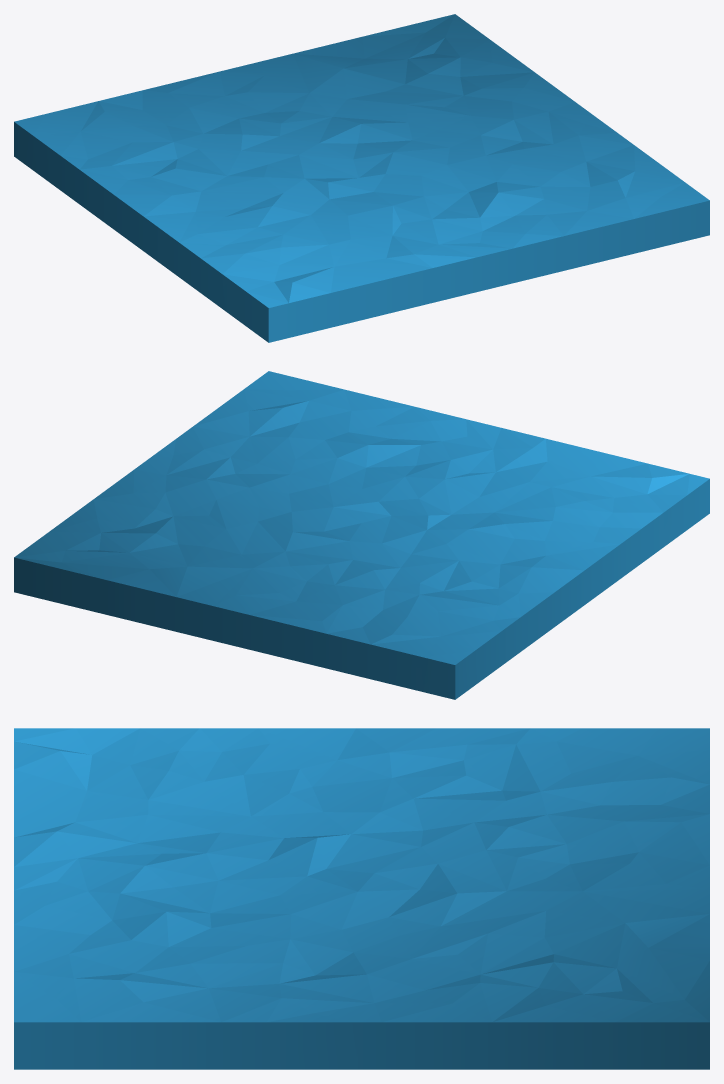
File: water location christmas village.fbx
The picture shows the model from 3 angles, top to bottom: view 1: azimuth 30°, elevation 25°; view 2: azimuth 150°, elevation 25°; view 3: azimuth 270°, elevation 25°; orthographic projection. The views are drawn at different scales.
Visible parts, largest first — view 1: water location christmas village; view 2: water location christmas village; view 3: water location christmas village.
Part boxes in pixels (box(x1,y1,x2,y2)): water location christmas village: box(14, 14, 709, 342); water location christmas village: box(14, 371, 709, 699); water location christmas village: box(14, 728, 709, 1069).
Bounding box in the file's own units: 4400 × 379 × 4400.
